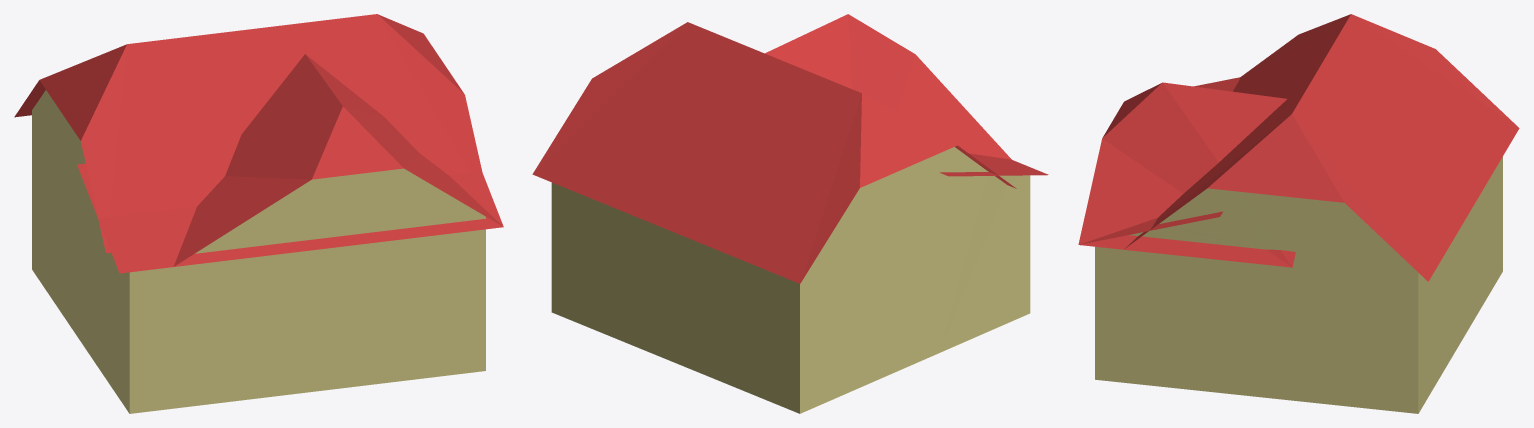
3 views of the same model, side by side, from view 1: azimuth 30°, elevation 25°; view 2: azimuth 150°, elevation 25°; view 3: azimuth 270°, elevation 25° (orthographic). The views are drawn at different scales.
Size of the model in its own units: 16.56 by 16.18 by 10.68.
